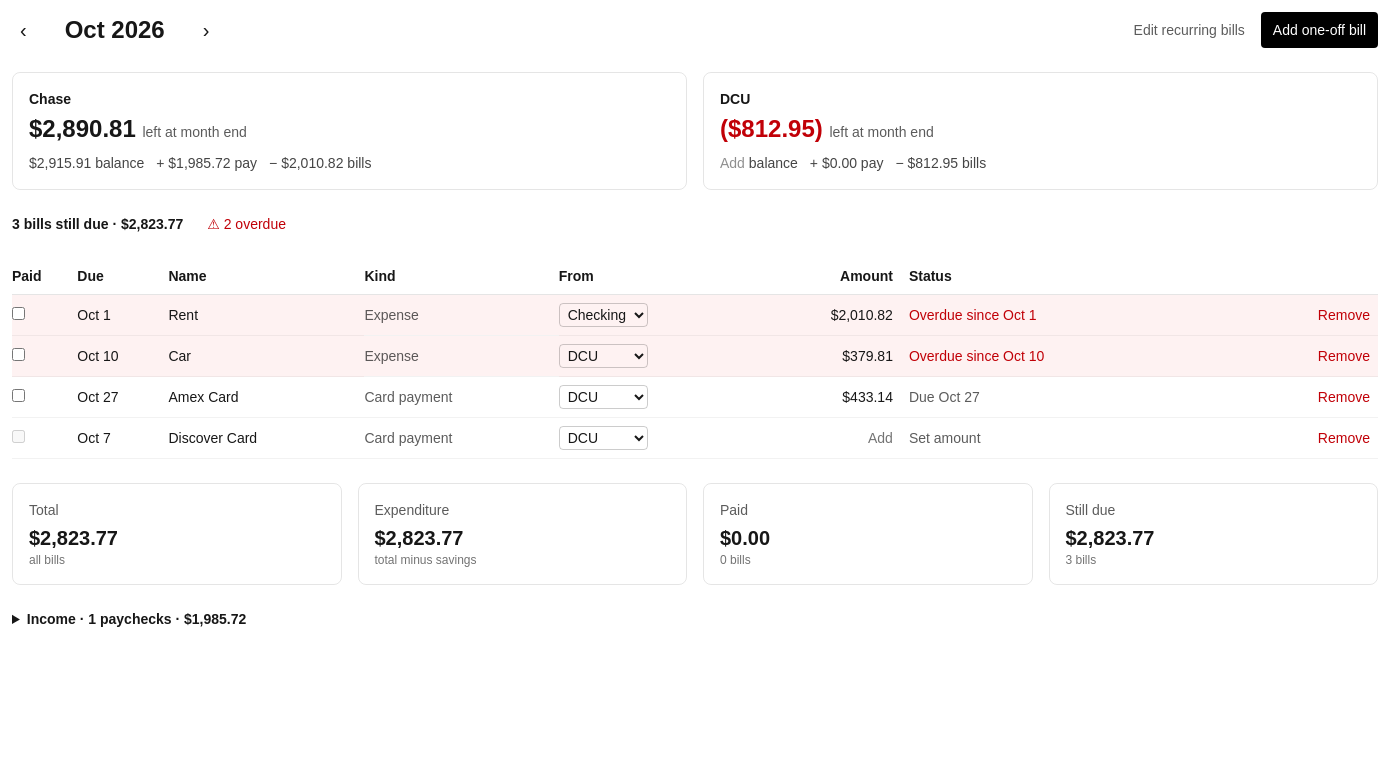
Test case: BillsPage › editing an amount inline saves on Enter and shows the new totals
Click the button named "Amex Card amount": (868, 397) 842,387 -> 893,407
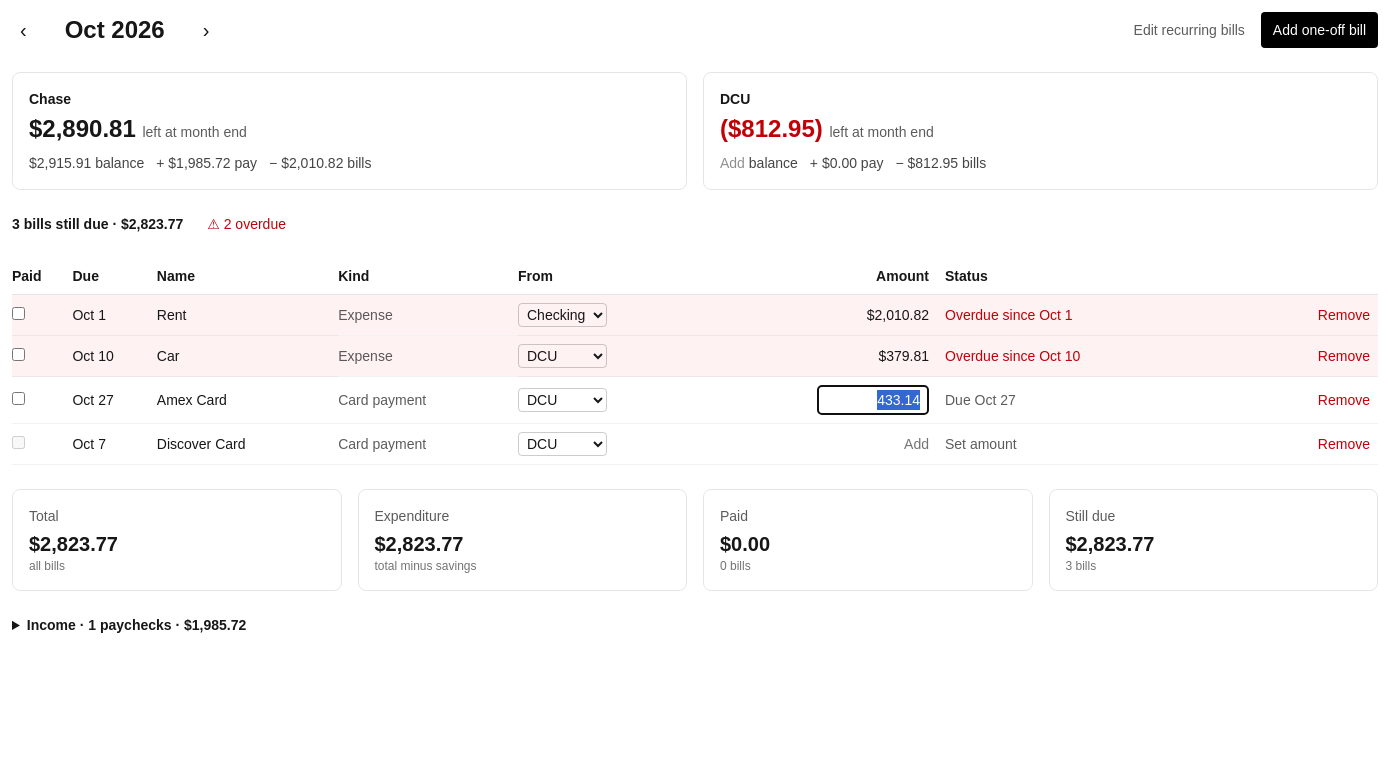
Replace the text in the field named "Amex Card amount" with "609.37": (873, 400) 817,385 -> 929,415
Then press Enter
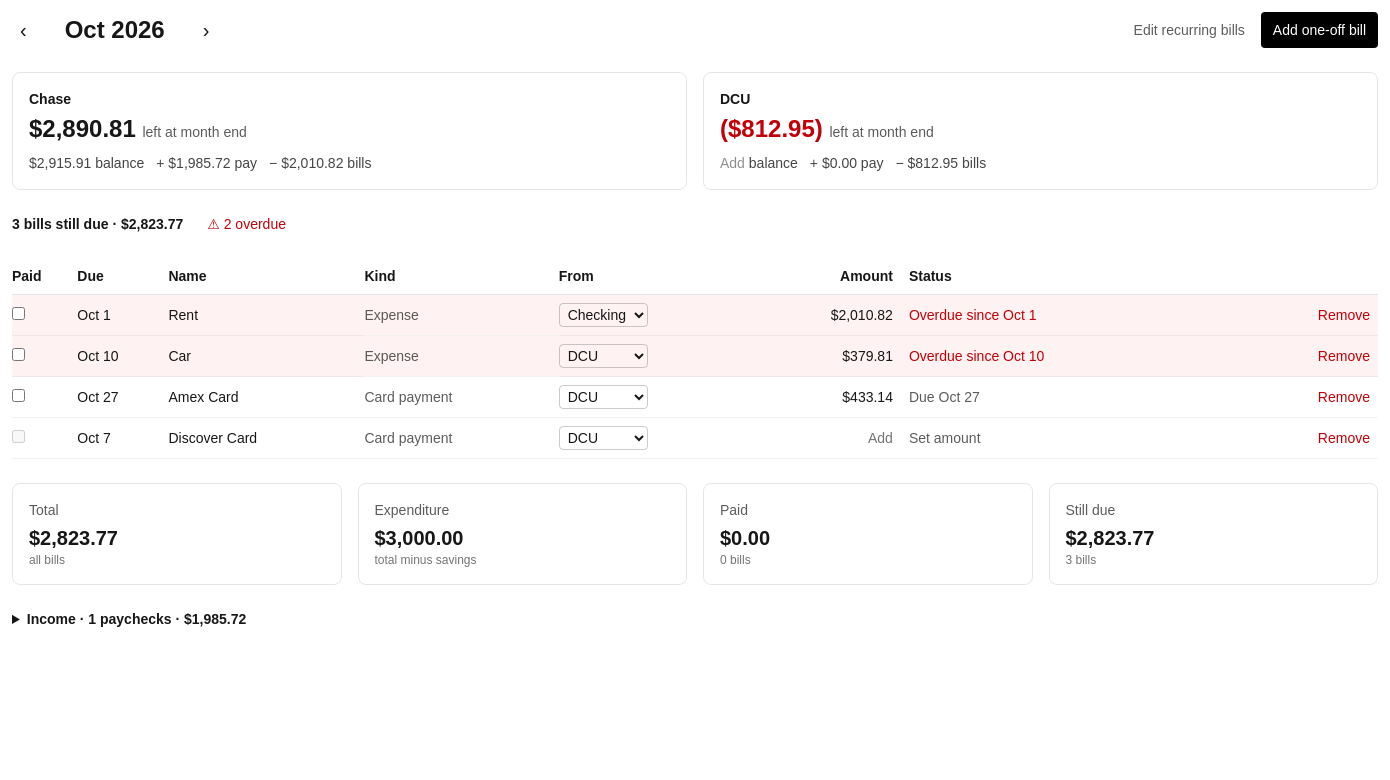
Expected: the text "$3,000.00" is shown, 374,527 -> 464,549
